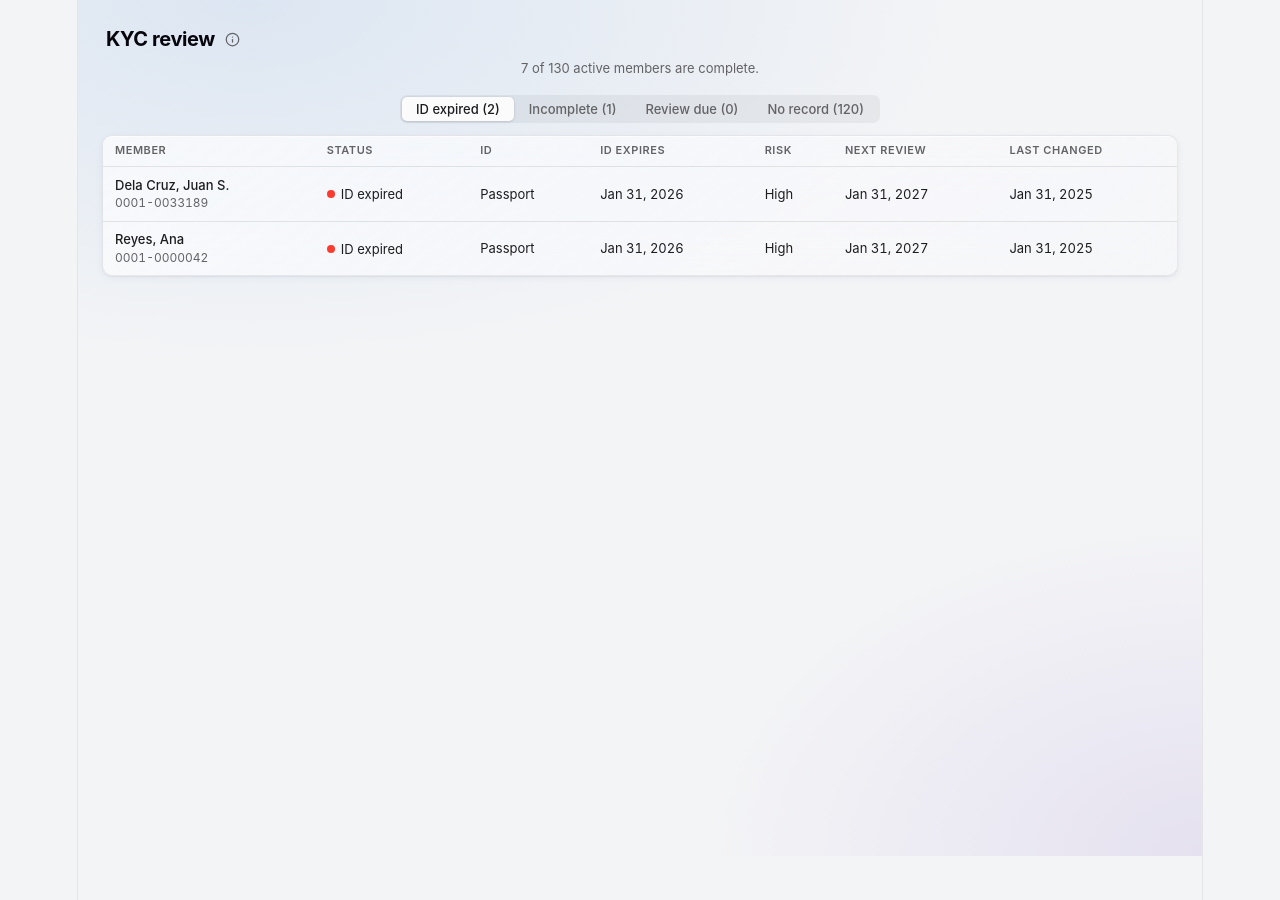
KYC review › switches to another kind, pages a long list, and says when one is empty
Click the button "No record (120)": x=816, y=109 [753,97,878,121]
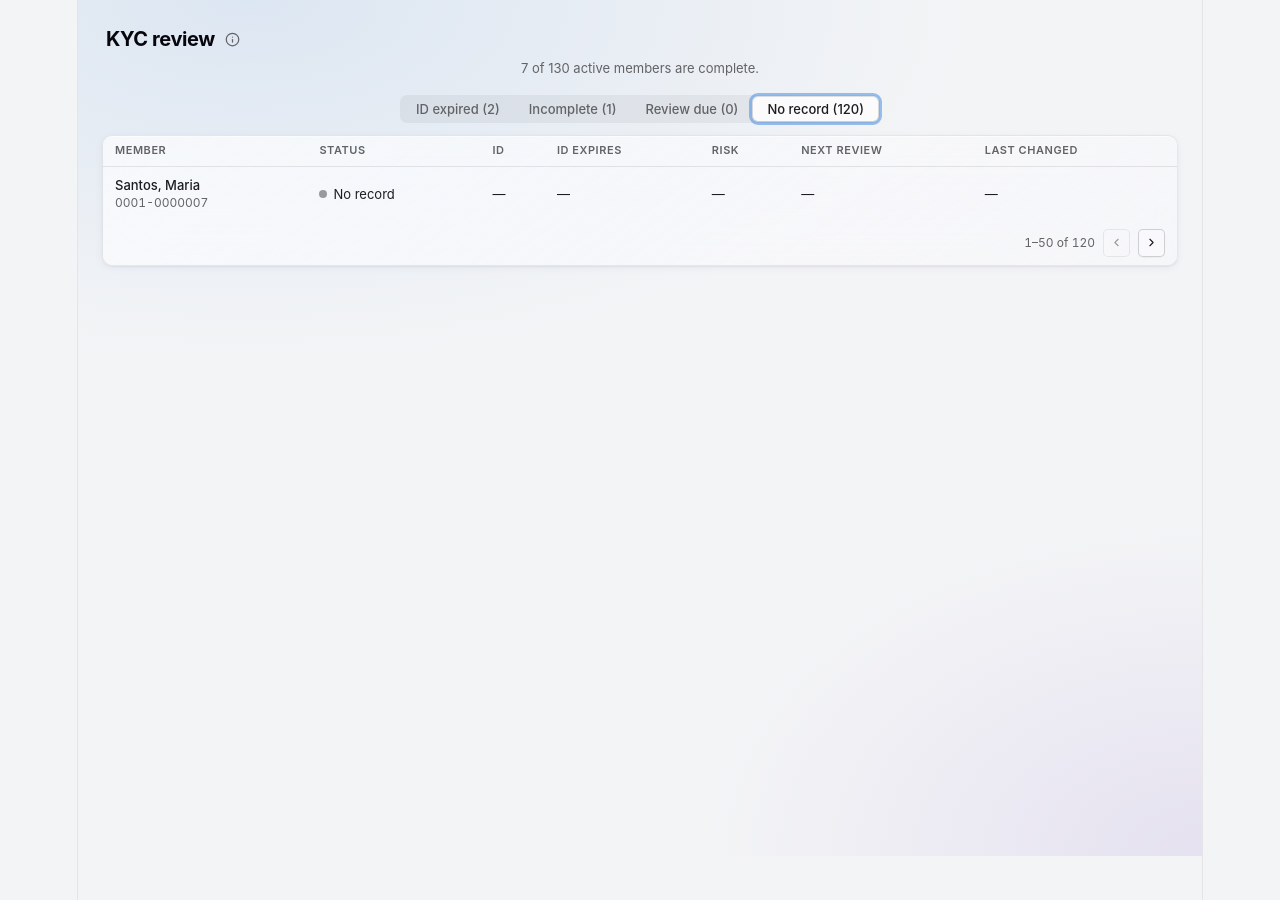
Result: the text "Santos, Maria" is shown at [115,177,200,193]
Result: the text "1–50 of 120" is shown at [1024,234,1095,251]
Click the button named "Next page": x=1152, y=243 [1138,229,1165,257]
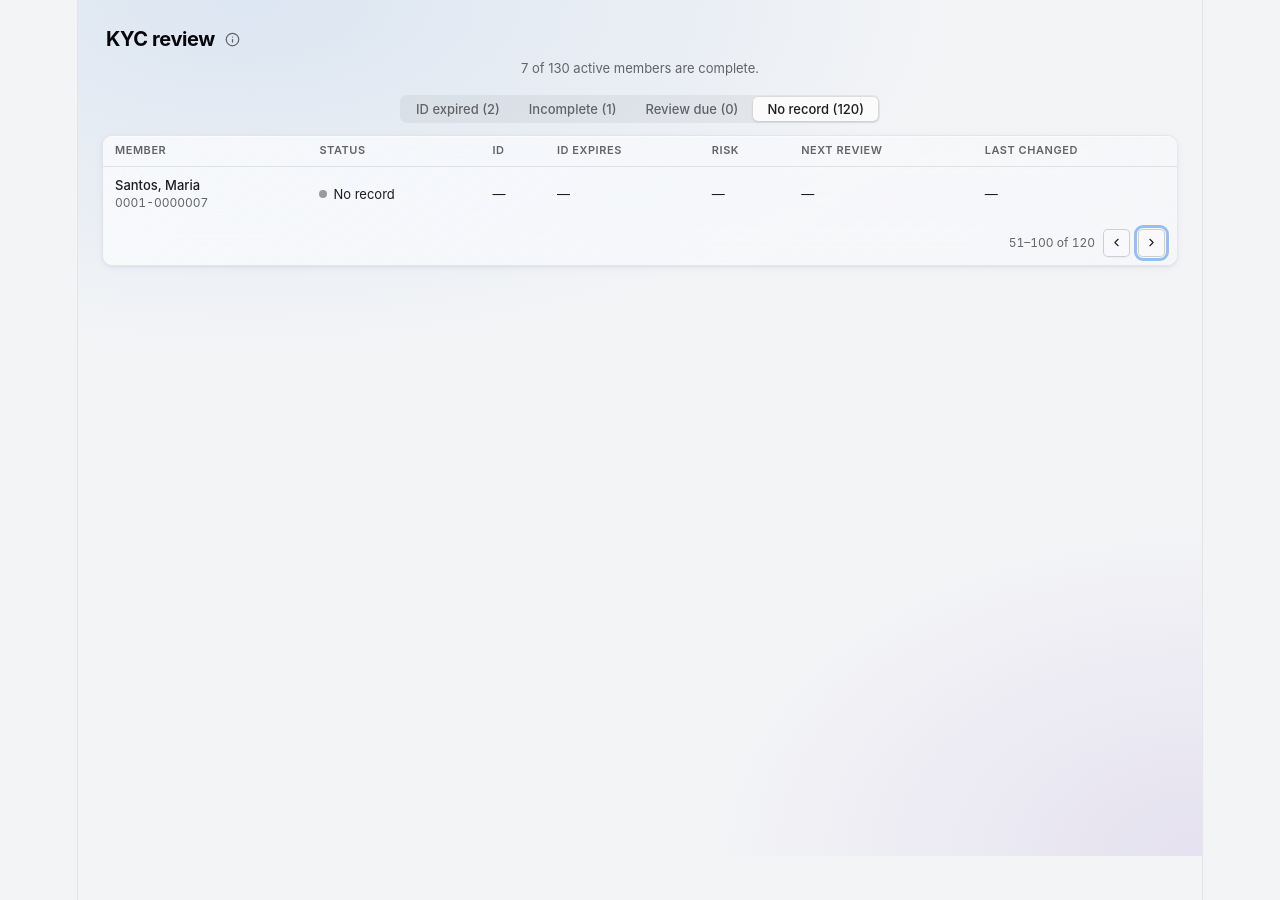
Click the button "Review due (0)": x=692, y=109 [631,97,752,121]
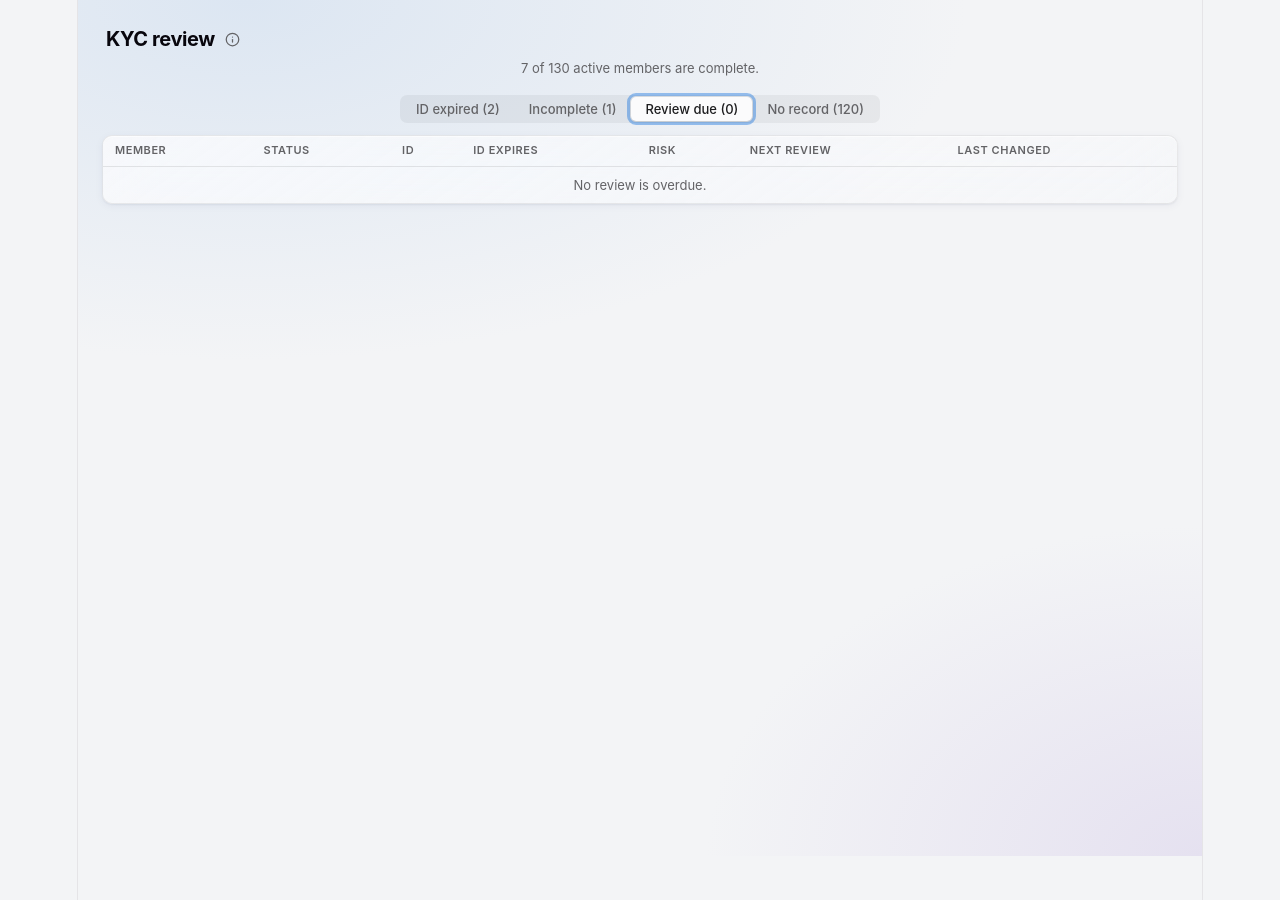
Result: the text "No review is overdue." is shown at [574,177,706,193]
